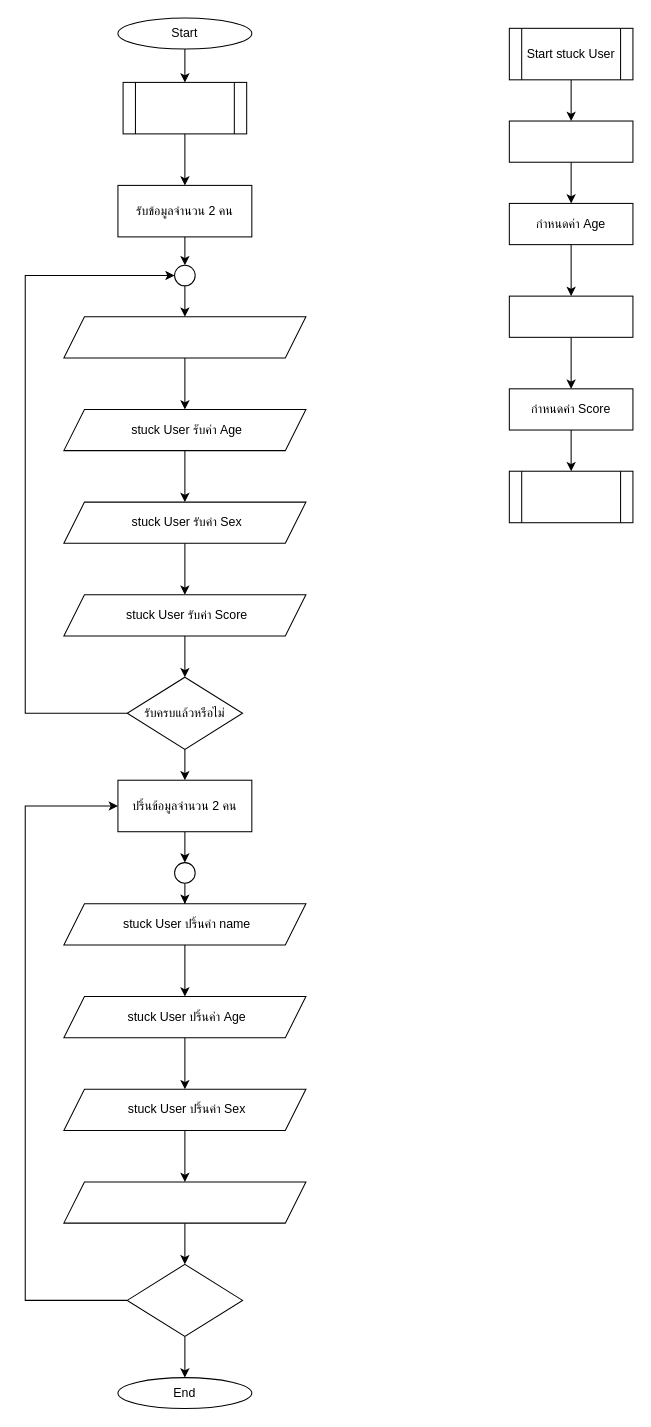
Some shapes in this 651 by 1427 pixel diagram are drawn without their labels. The centre of each missing label's shape, as x and y in pixels:
"End stuck User" goes at point 570,496.
"stuck User" goes at point 184,107.
"stuck User ปริ้นค่า Score" goes at point 184,1202.
"stuck User รับค่า name" goes at point 184,337.
"กำหนดค่า Name" goes at point 570,141.
"กำหนดค่า Sex" goes at point 570,316.
"ปริ้นครบแล้วหรือไม่" goes at point 184,1299.
